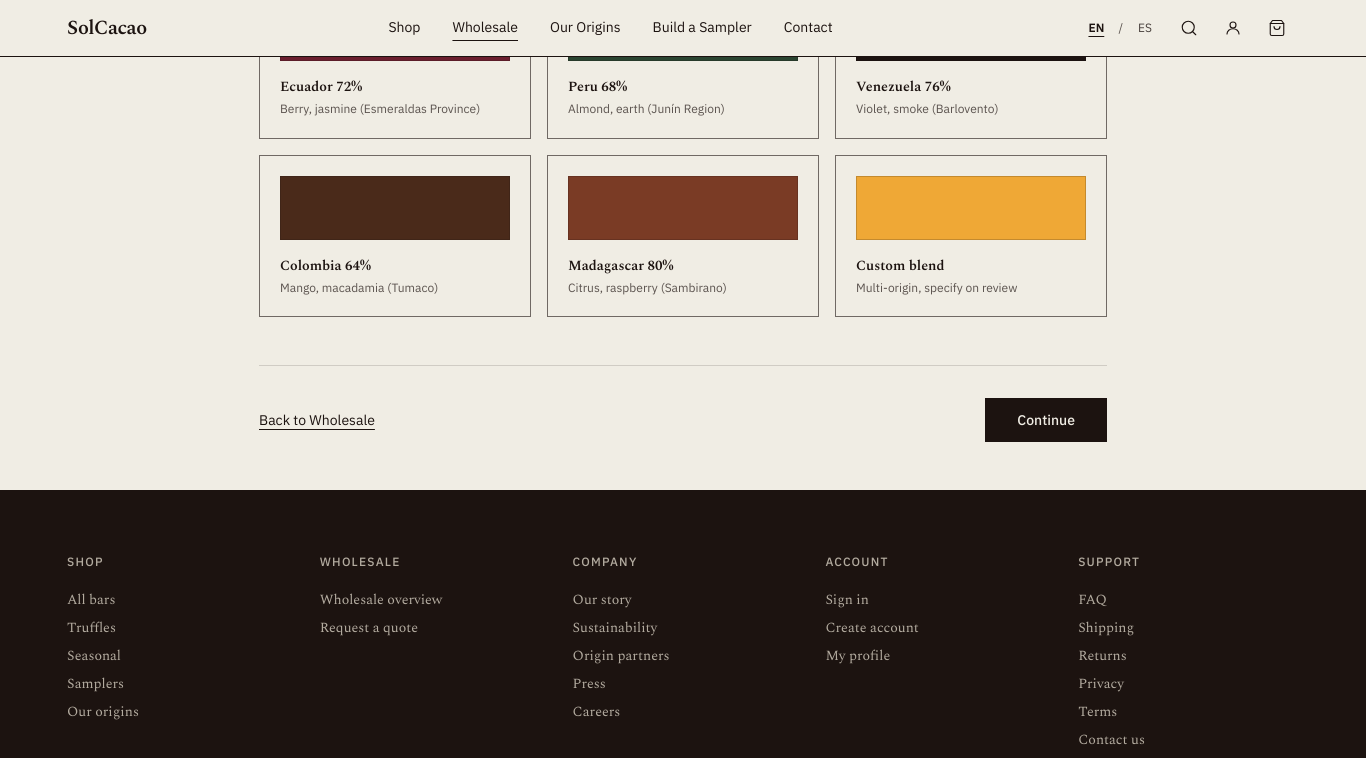
Test: studio wizard › does not continue without a cacao profile
(page scrolled)
Step 1. Click the button "Continue" → (1046, 420), box [985,398,1107,442]
(page scrolled)
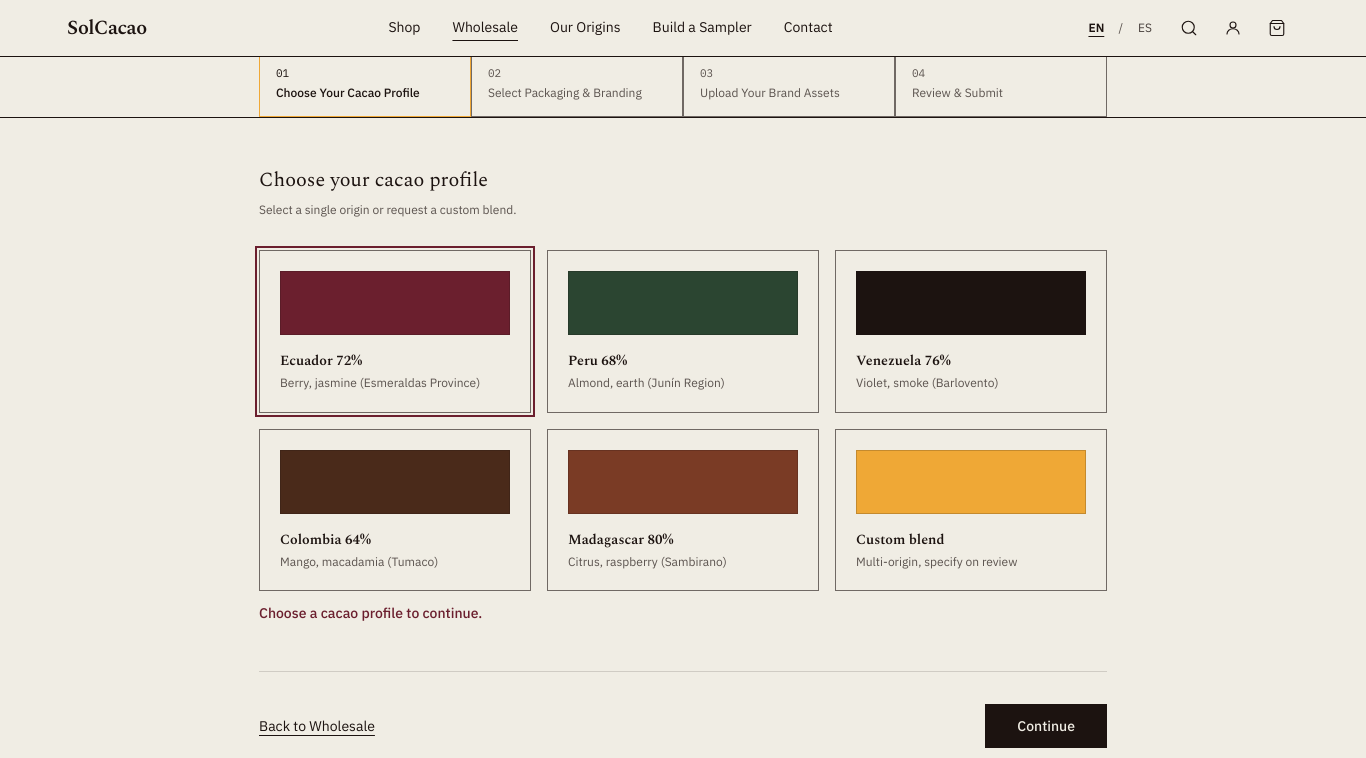
Expected: the heading "Choose your cacao profile" is shown, [259,165,488,195]
Expected: the text "Choose a cacao profile to continue." is shown, [259,604,482,622]
